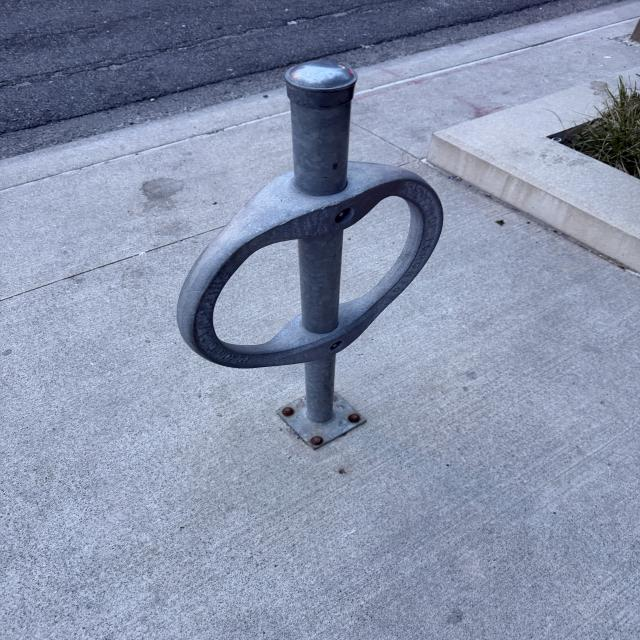Bicycle Rack: (176, 62, 443, 444)
